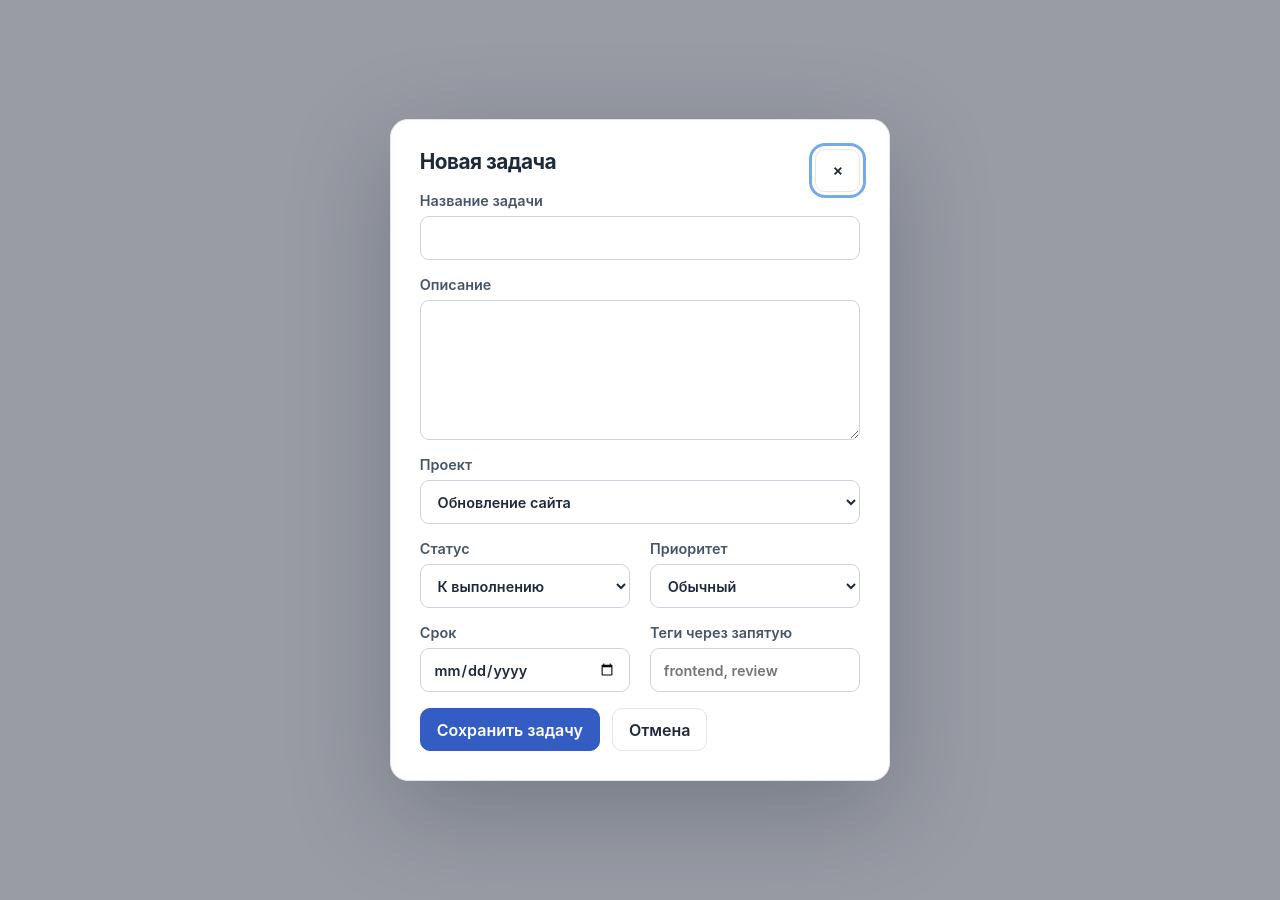
Test: keeps the form open when the API fails
Type "New task" into the field labelled "Название задачи" at coordinates (640, 238), box [420,216,860,260]
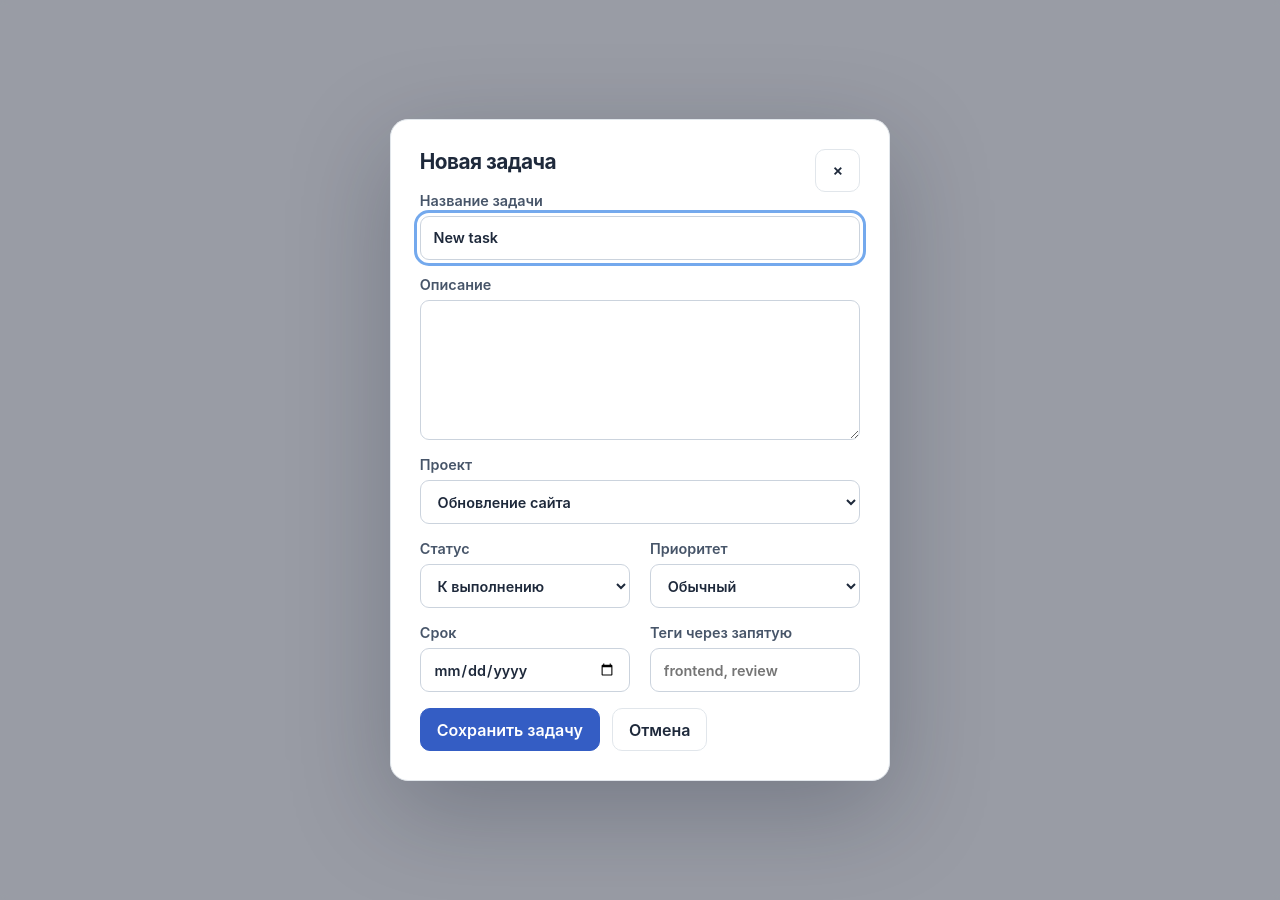
Click the button "Сохранить задачу" at coordinates (510, 730), box [420,708,600,751]
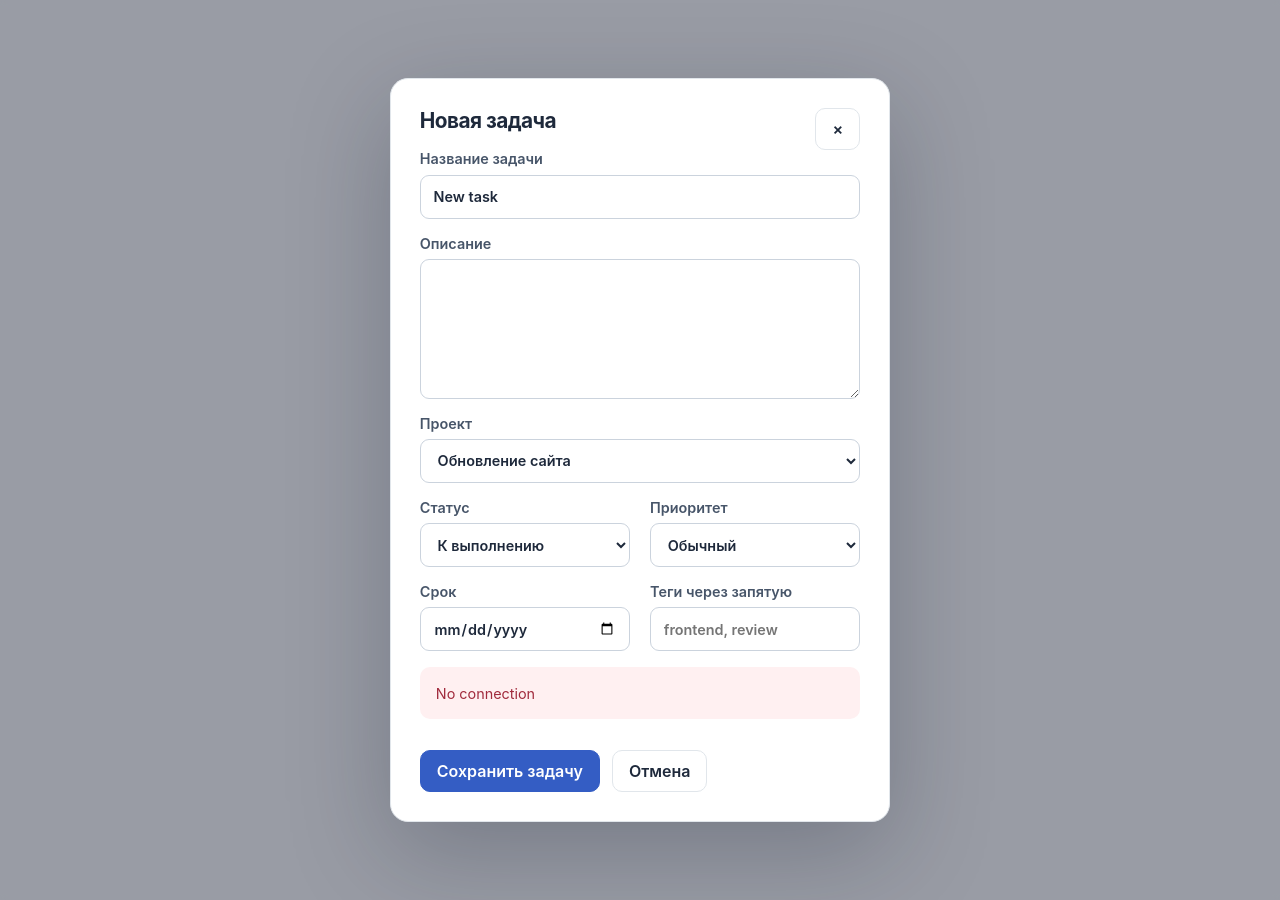
Check: the message reads "No connection", box [436,685,535,702]
